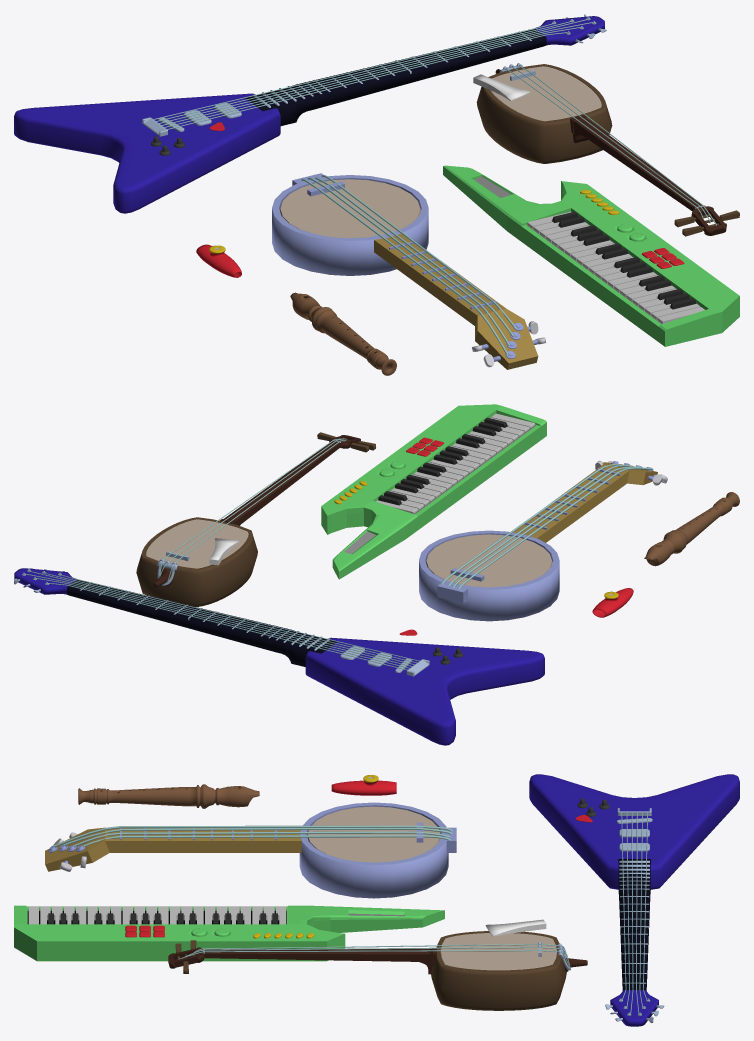
The model's file is Generic_Fun_Instruments.fbx.
3 renders of one model, top to bottom at view 1: azimuth 30°, elevation 25°; view 2: azimuth 150°, elevation 25°; view 3: azimuth 270°, elevation 25°, orthographic. The views are drawn at different scales.
Visible parts, largest first — view 1: Guitar Electric V, Keytar, Banjo, Shamisen, RecorderFlute, Kazoo, Bachi; view 2: Guitar Electric V, Keytar, Banjo, Shamisen, RecorderFlute, Kazoo; view 3: Banjo, Guitar Electric V, Keytar, Shamisen, RecorderFlute, Kazoo, Bachi.
Part boxes in pixels (x1,y1,x2,y2): Guitar Electric V: (14,14,606,213); Keytar: (443,165,739,346); Banjo: (272,173,545,369); Shamisen: (476,63,739,236); RecorderFlute: (290,292,396,375); Kazoo: (196,244,241,277); Bachi: (473,74,530,101); Guitar Electric V: (14,568,544,745); Keytar: (321,404,546,579); Banjo: (419,460,667,621); Shamisen: (136,432,375,606); RecorderFlute: (644,492,739,566); Kazoo: (592,588,633,617); Banjo: (45,802,456,898); Guitar Electric V: (529,774,739,1026); Keytar: (14,905,444,961); Shamisen: (168,931,587,1010); RecorderFlute: (78,784,259,808); Kazoo: (331,775,396,795); Bachi: (485,919,546,936).
Bounding box in the file's own units: 789 × 72.2 × 975.
